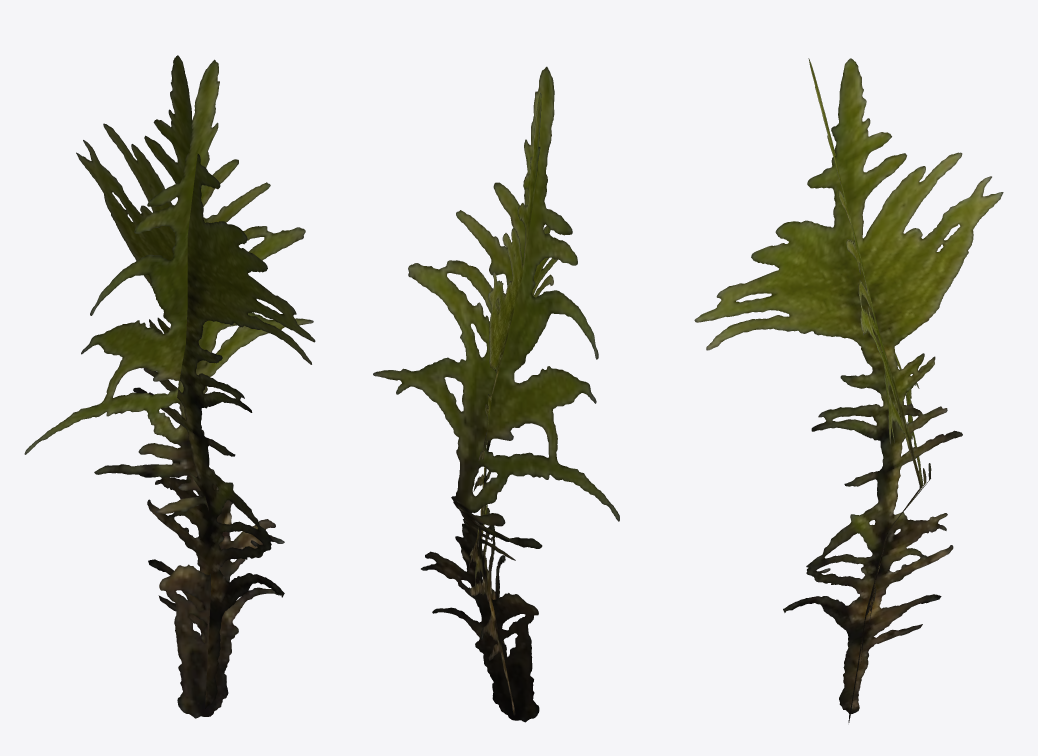
Rendered from moss_01_f_LOD1.glb.
3 views of the same model, side by side, from view 1: azimuth 30°, elevation 25°; view 2: azimuth 150°, elevation 25°; view 3: azimuth 270°, elevation 25° (orthographic). The views are drawn at different scales.
Parts seen in each view (by area): view 1: moss_01_f_LOD1__lod0; view 2: moss_01_f_LOD1__lod0; view 3: moss_01_f_LOD1__lod0.
Boxes of the visible parts, left/top/right/bottom form: moss_01_f_LOD1__lod0: left=24, top=55, right=315, bottom=718; moss_01_f_LOD1__lod0: left=373, top=66, right=619, bottom=722; moss_01_f_LOD1__lod0: left=694, top=58, right=1003, bottom=722.
Size of what is drawn, in the model's own units: 0.0128 by 0.0301 by 0.013.
1 material, 1 textured.
